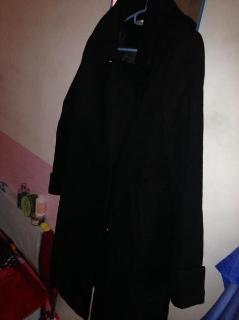long sleeve outwear: (47, 0, 206, 319)
